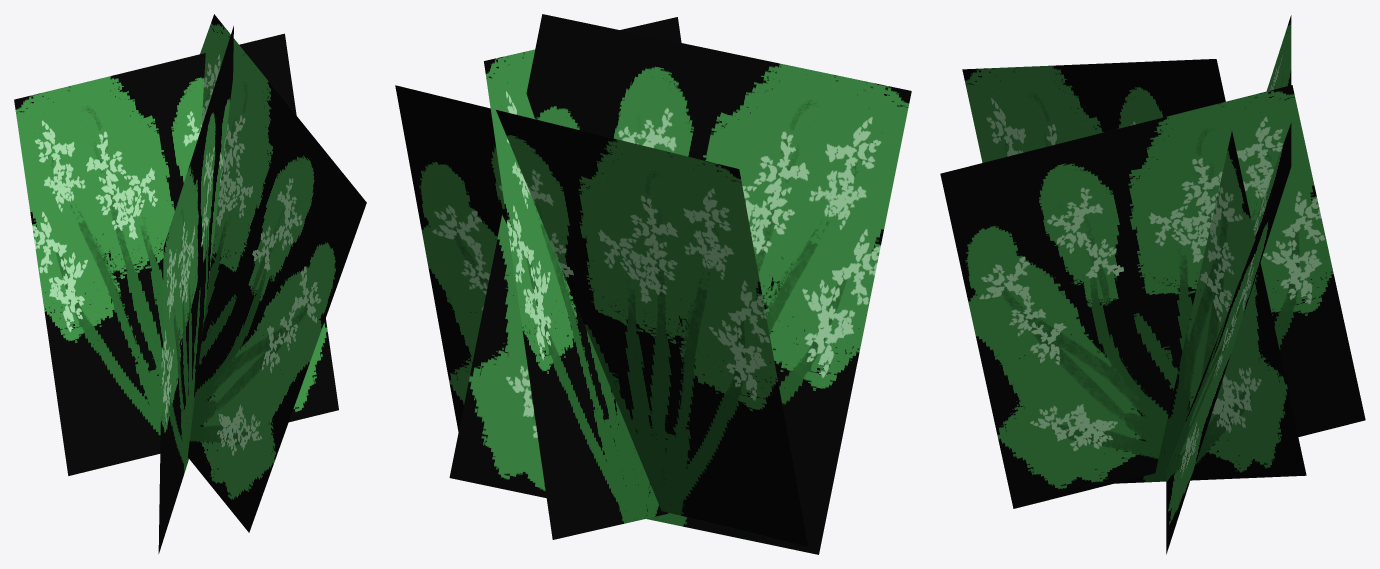
The model's file is flowers2.obj.
3 views of the same model, side by side, from view 1: azimuth 30°, elevation 25°; view 2: azimuth 150°, elevation 25°; view 3: azimuth 270°, elevation 25° (orthographic). The views are drawn at different scales.
Parts seen in each view (by area): view 1: pPlane4; view 2: pPlane4; view 3: pPlane4.
Boxes of the visible parts, <box> form: pPlane4: <box>14,14,366,553</box>; pPlane4: <box>395,14,911,554</box>; pPlane4: <box>940,15,1365,554</box>.
Size of the model in its own units: 0.7891 by 1.23 by 0.9308.
Materials: 1 (1 with a texture image).
